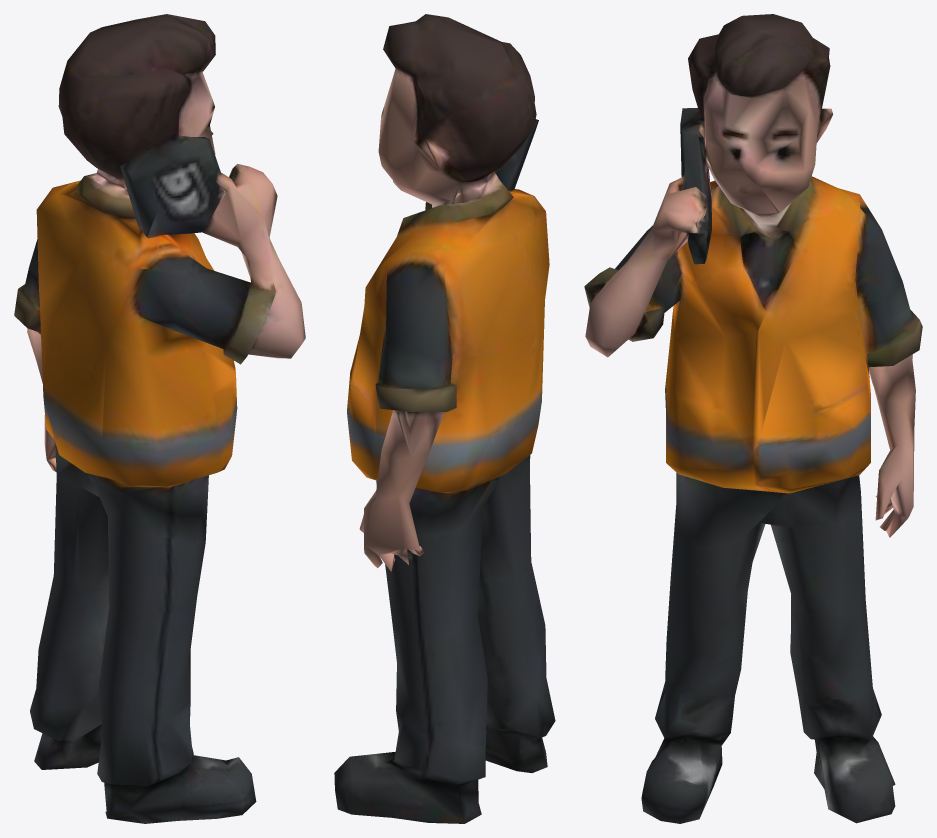
The model's file is marshal-radio.glb.
3 renders of one model, left to right at view 1: azimuth 30°, elevation 25°; view 2: azimuth 150°, elevation 25°; view 3: azimuth 270°, elevation 25°, orthographic. The views are drawn at different scales.
Visible parts, largest first — view 1: tripo_node_aa0caa11-7e9e-4116-be05-d5a23dda6efd; view 2: tripo_node_aa0caa11-7e9e-4116-be05-d5a23dda6efd; view 3: tripo_node_aa0caa11-7e9e-4116-be05-d5a23dda6efd.
Boxes of the visible parts, x1=… form: tripo_node_aa0caa11-7e9e-4116-be05-d5a23dda6efd: x1=14, y1=14, x2=305, y2=823; tripo_node_aa0caa11-7e9e-4116-be05-d5a23dda6efd: x1=334, y1=14, x2=555, y2=823; tripo_node_aa0caa11-7e9e-4116-be05-d5a23dda6efd: x1=584, y1=14, x2=922, y2=823.
Bounding box in the file's own units: 0.232 × 0.9986 × 0.3959.
Materials: 1 (1 with a texture image).
